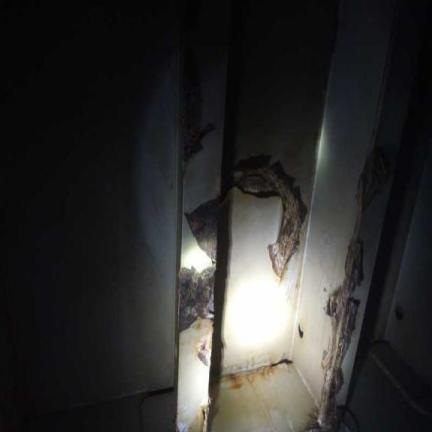besi_tidak_karat: (294, 0, 428, 405), (214, 0, 337, 371), (176, 318, 212, 431)
karat: (318, 147, 387, 429), (233, 157, 306, 279), (182, 47, 215, 167), (179, 266, 215, 332), (185, 198, 220, 262)
